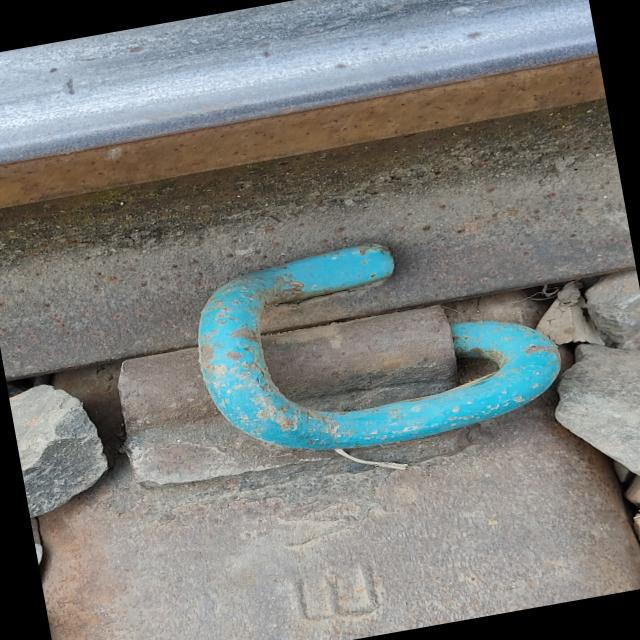track_bolt: (170, 204, 580, 482)
